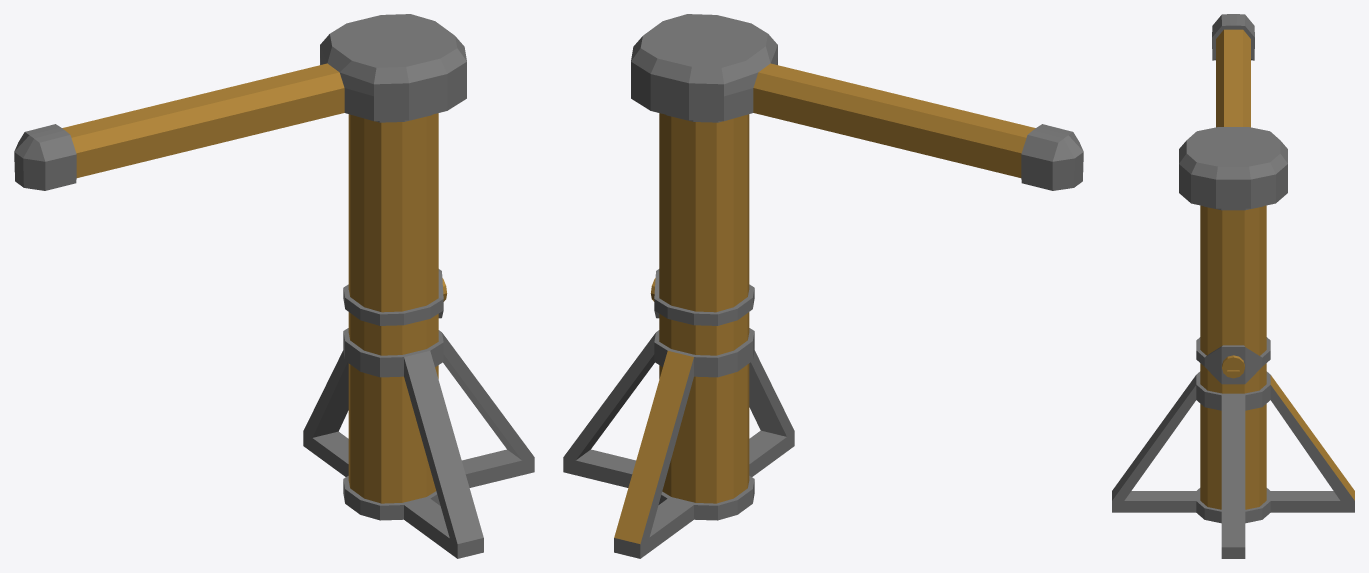
File: Crane.glb
3 views of the same model, side by side, from view 1: azimuth 30°, elevation 25°; view 2: azimuth 150°, elevation 25°; view 3: azimuth 270°, elevation 25° (orthographic). The views are drawn at different scales.
Visible parts, largest first — view 1: CraneBase, CraneHead, WinchMount; view 2: CraneBase, CraneHead, WinchMount; view 3: CraneBase, CraneHead, WinchMount.
Boxes of the visible parts, box(x1,y1,x2,y2) form: CraneBase: box(303, 113, 534, 558); CraneHead: box(14, 14, 466, 190); WinchMount: box(343, 269, 447, 325); CraneBase: box(563, 113, 794, 558); CraneHead: box(631, 14, 1083, 190); WinchMount: box(650, 269, 754, 325); CraneBase: box(1112, 205, 1354, 558); CraneHead: box(1179, 14, 1287, 208); WinchMount: box(1196, 337, 1270, 384).
Bounding box in the file's own units: 3.34 × 2.87 × 1.75.
